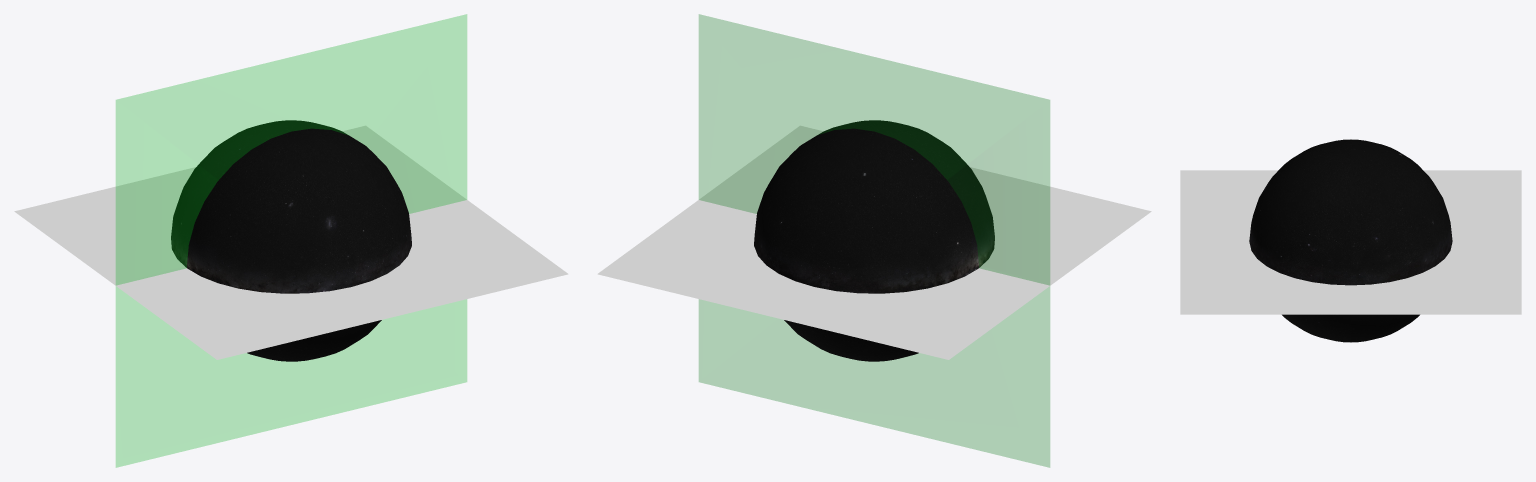
Rendered from portal-fairedelespace.glb.
3 renders of one model, left to right at view 1: azimuth 30°, elevation 25°; view 2: azimuth 150°, elevation 25°; view 3: azimuth 270°, elevation 25°, orthographic. The views are drawn at different scales.
Visible parts, largest first — view 1: clip, skyOut, showIn, hideIn, skyIn; view 2: clip, skyIn, hideIn, showIn, skyOut; view 3: hideIn, showIn, skyOut, skyIn.
Boxes of the visible parts, left/top/right/bottom form: clip: left=116, top=14, right=466, bottom=467; skyOut: left=187, top=128, right=411, bottom=361; showIn: left=116, top=200, right=568, bottom=359; hideIn: left=14, top=125, right=466, bottom=285; skyIn: left=171, top=120, right=348, bottom=267; clip: left=699, top=14, right=1049, bottom=467; skyIn: left=754, top=128, right=978, bottom=361; hideIn: left=597, top=200, right=1049, bottom=359; showIn: left=699, top=125, right=1151, bottom=285; skyOut: left=817, top=120, right=994, bottom=267; hideIn: left=1350, top=170, right=1521, bottom=314; showIn: left=1180, top=170, right=1350, bottom=314; skyOut: left=1249, top=139, right=1350, bottom=342; skyIn: left=1351, top=139, right=1452, bottom=342.
Size of the model in its own units: 200 by 200 by 200.
11 materials, 3 textured.
